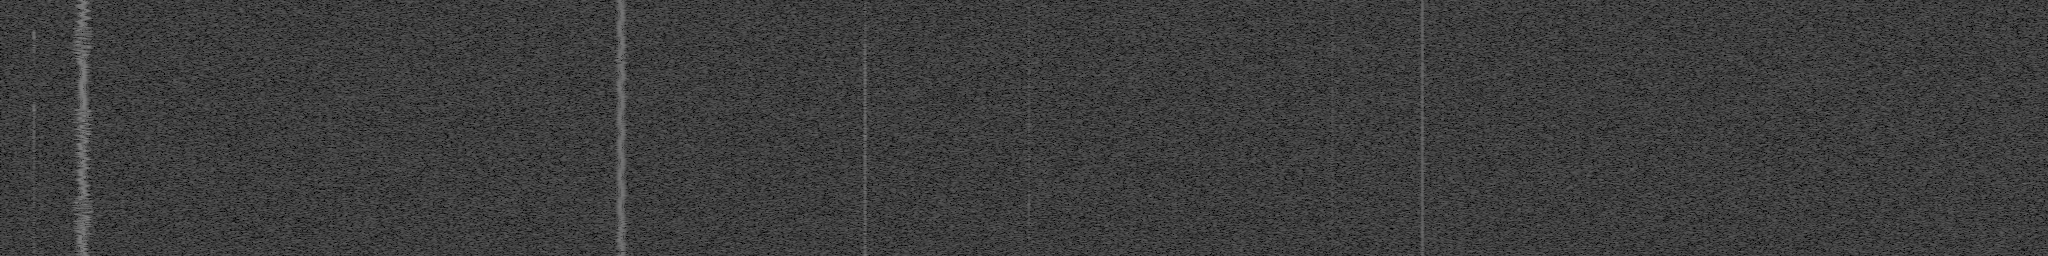wv_am: (1330, 0, 1335, 256)
wv_cw: (1420, 0, 1425, 256)
wv_lsb: (862, 30, 869, 256), (31, 150, 37, 221), (31, 97, 37, 149), (31, 12, 37, 61), (863, 3, 869, 29), (31, 222, 37, 242), (31, 81, 37, 97), (31, 242, 37, 256), (31, 63, 37, 74), (31, 74, 37, 80), (31, 4, 35, 9)
wv_usb: (1027, 3, 1031, 184), (1027, 185, 1032, 225), (1027, 226, 1032, 240), (1027, 242, 1031, 256)
wv_wbfm: (71, 0, 97, 256), (611, 0, 631, 251), (609, 252, 633, 256)
